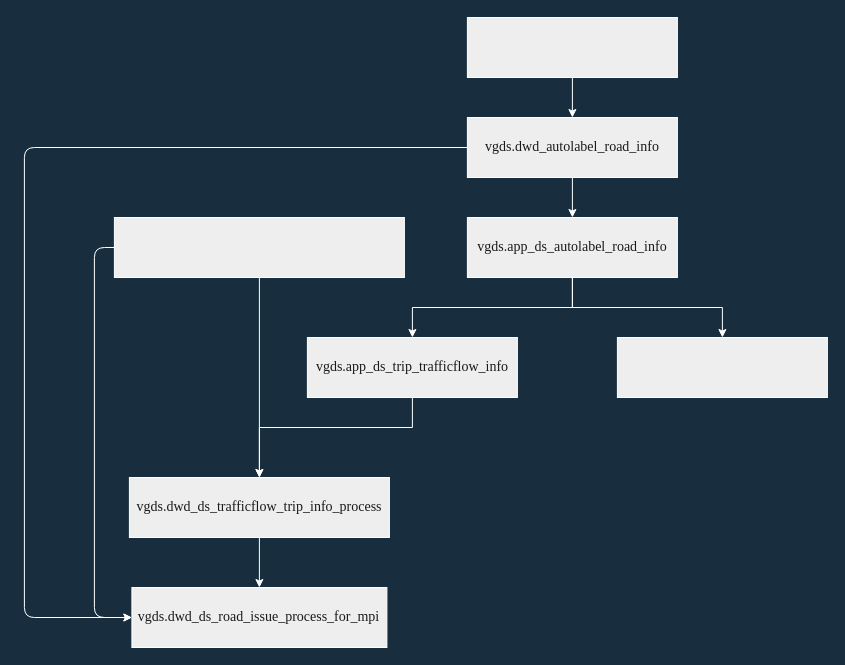
Image size: 845x665. Some labels were removed from this diagram. Here are the shapes that lost their labels. From the top down, the centre of each, then its label:
At pixel 571 47: "vgds.dwd_autolabel_road_info_temp".
At pixel 258 247: "voyager_te_data_platform.ds_trip_daily_build".
At pixel 721 367: "vgds.app_ds_his_traffic_data".
